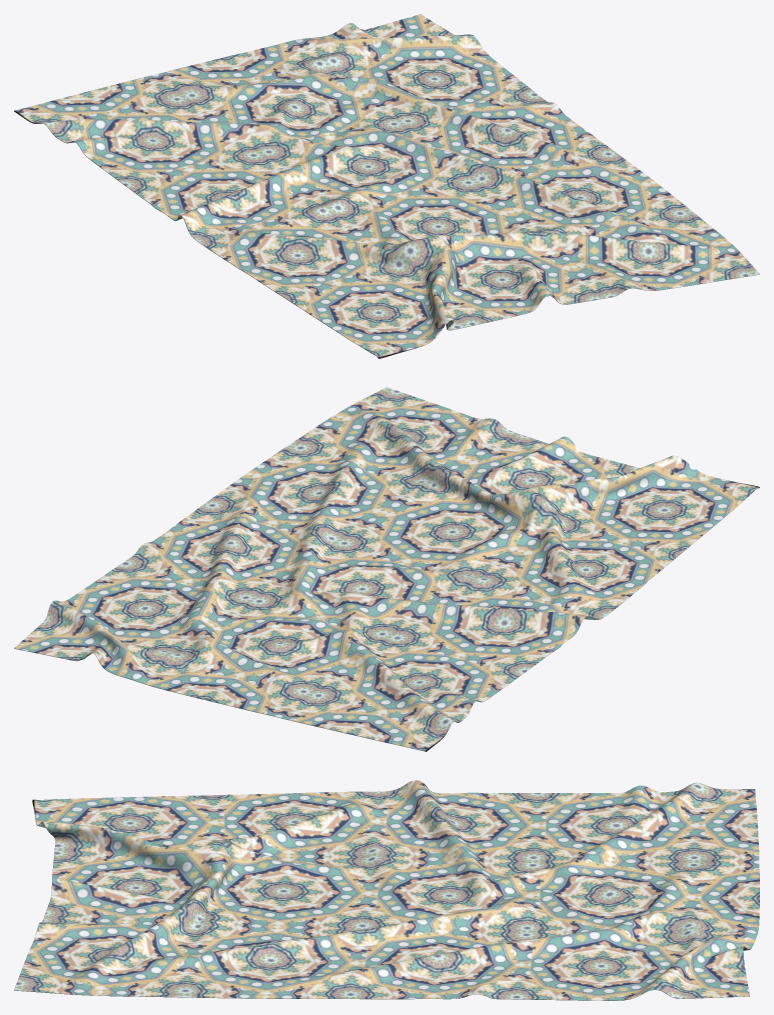
The model's file is ethnic_Carpet.gltf.
3 views of the same model, one above another, from view 1: azimuth 30°, elevation 25°; view 2: azimuth 150°, elevation 25°; view 3: azimuth 270°, elevation 25° (orthographic). The views are drawn at different scales.
Parts seen in each view (by area): view 1: 비치 타월; view 2: 비치 타월; view 3: 비치 타월.
Boxes of the visible parts, bbox=[...] form: 비치 타월: bbox=[14, 14, 759, 358]; 비치 타월: bbox=[14, 387, 759, 751]; 비치 타월: bbox=[14, 780, 759, 1000].
Size of the model in its own units: 1.73 by 0.0982 by 2.58.
1 material, 1 textured.
